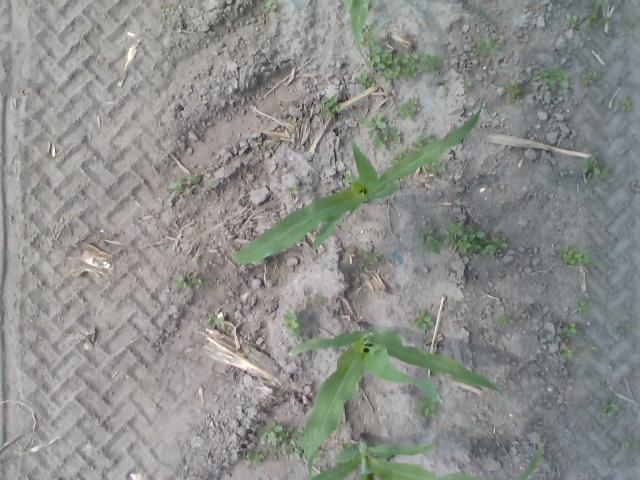Maize: (234, 102, 483, 264), (286, 330, 506, 476), (312, 433, 544, 480), (348, 2, 371, 66)
Weeds: (532, 64, 570, 92), (392, 97, 418, 118), (380, 53, 400, 80), (413, 310, 434, 331), (168, 180, 190, 200), (365, 40, 383, 64), (361, 114, 388, 130), (401, 52, 419, 76), (420, 399, 436, 424), (264, 421, 283, 442), (582, 154, 600, 175), (600, 399, 619, 417), (426, 235, 444, 253), (354, 75, 372, 92), (283, 313, 298, 329), (456, 236, 471, 252), (448, 220, 463, 236), (474, 36, 486, 56), (562, 322, 576, 338), (385, 128, 401, 142), (506, 83, 520, 97), (562, 248, 574, 264), (492, 235, 508, 247), (427, 55, 438, 72), (488, 38, 499, 54), (206, 314, 223, 324), (318, 97, 332, 109), (582, 72, 597, 83), (470, 230, 486, 240), (575, 252, 588, 264), (621, 98, 632, 112), (187, 276, 199, 288), (292, 322, 302, 336), (372, 139, 386, 149), (267, 0, 279, 11), (332, 94, 340, 110), (362, 24, 374, 34), (291, 448, 303, 458), (464, 224, 474, 236), (434, 162, 446, 172), (368, 128, 378, 140), (484, 244, 498, 252), (189, 174, 200, 184), (469, 242, 479, 253), (423, 226, 434, 236), (344, 169, 352, 182), (420, 130, 430, 140), (570, 16, 579, 27), (562, 348, 574, 356), (501, 316, 513, 324), (589, 2, 608, 7), (178, 275, 185, 288), (207, 179, 216, 189), (282, 428, 292, 437), (368, 252, 378, 261), (620, 324, 630, 333), (325, 110, 336, 118), (418, 232, 425, 244), (590, 343, 599, 352), (464, 79, 473, 88), (411, 138, 421, 146), (627, 20, 637, 28), (262, 142, 270, 151), (578, 301, 586, 310), (449, 235, 456, 245), (621, 442, 629, 450), (600, 169, 608, 177), (586, 14, 594, 22), (508, 96, 516, 104), (290, 185, 297, 194), (294, 428, 304, 434), (598, 18, 608, 24), (257, 453, 264, 461), (588, 258, 595, 266), (193, 256, 200, 263), (314, 456, 320, 464), (291, 118, 297, 125), (247, 450, 254, 456), (540, 396, 546, 403), (170, 7, 175, 15), (570, 309, 578, 314), (586, 302, 592, 308), (318, 298, 326, 302), (208, 280, 214, 284)
